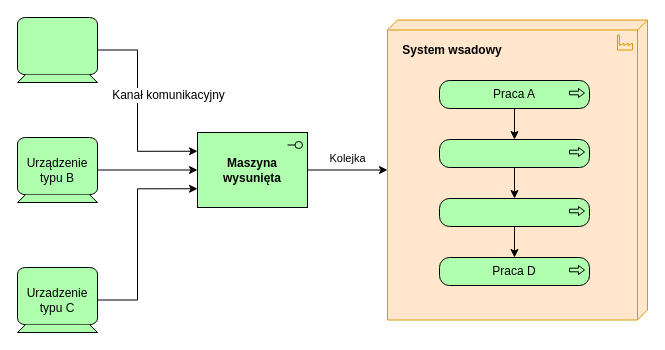
Some shapes in this 665 by 350 pixel diagram are drawn without their labels. Each missing label, with the centre of its shape:
"Praca B" goes at [514,153].
"Praca C" goes at [514,212].
"Urządzenie typu A" goes at [57,49].
